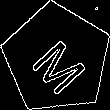M_NE: (23, 25, 91, 92)
